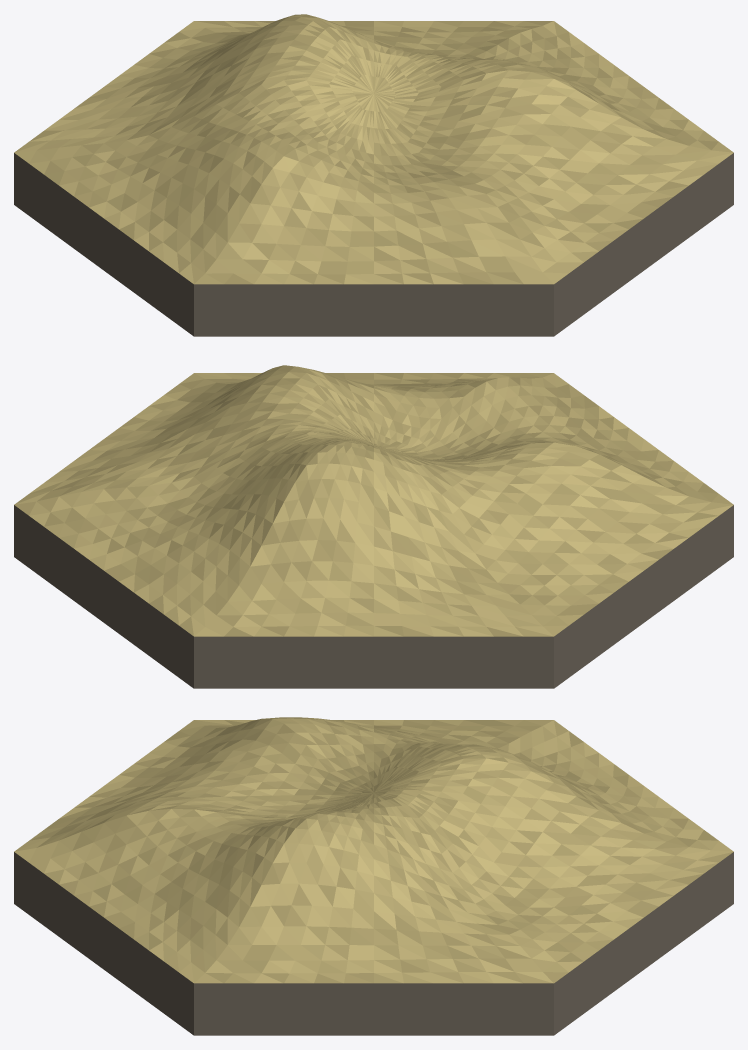
The model's file is TERRAIN_PLAINS_HILLS_v02.fbx.
3 renders of one model, top to bottom at view 1: azimuth 30°, elevation 25°; view 2: azimuth 150°, elevation 25°; view 3: azimuth 270°, elevation 25°, orthographic.
Parts seen in each view (by area): view 1: TERRAIN_PLAINS_HILLS_v02; view 2: TERRAIN_PLAINS_HILLS_v02; view 3: TERRAIN_PLAINS_HILLS_v02.
Boxes of the visible parts, x1,y1,x2,y2 form: TERRAIN_PLAINS_HILLS_v02: (14,14,733,336); TERRAIN_PLAINS_HILLS_v02: (14,365,733,688); TERRAIN_PLAINS_HILLS_v02: (14,717,733,1035).
Bounding box in the file's own units: 173 × 44.76 × 200.
